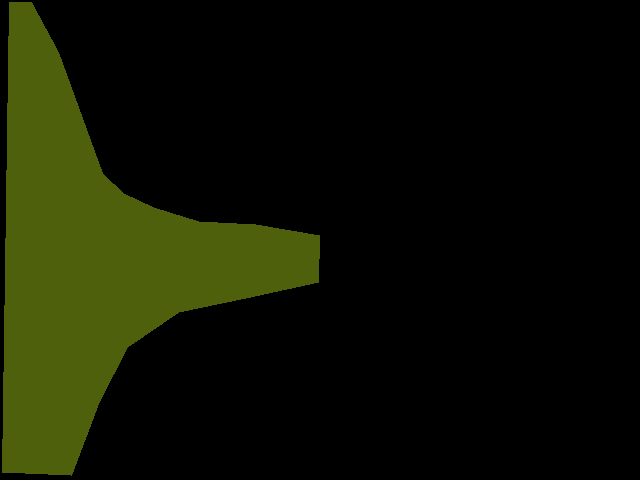Train: (2, 2, 320, 476)
